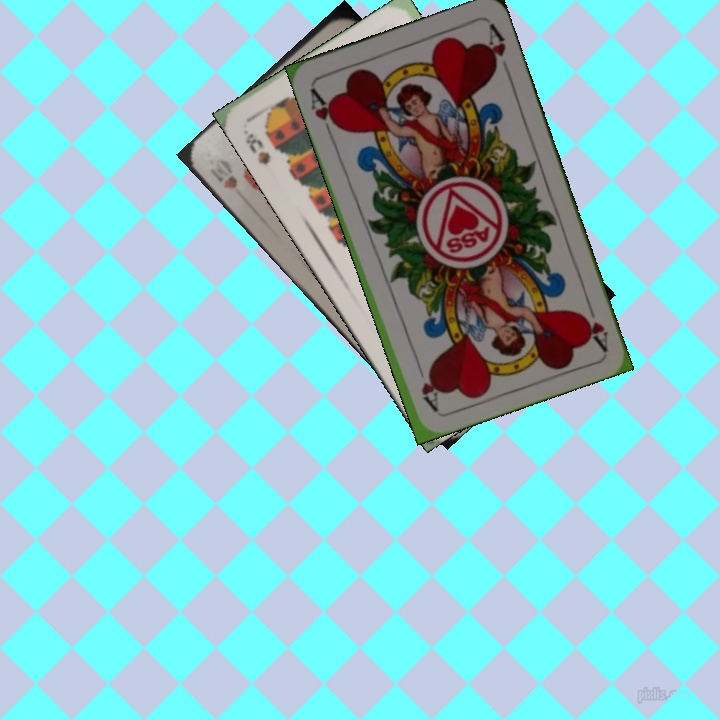H10: (205, 154, 241, 192)
HA: (306, 84, 343, 140), (576, 294, 611, 352)
S8: (239, 125, 273, 168)
